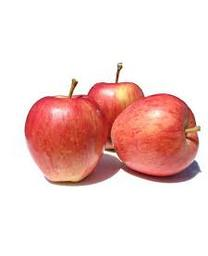apple: (24, 79, 107, 182), (110, 94, 199, 177), (88, 63, 145, 125)
